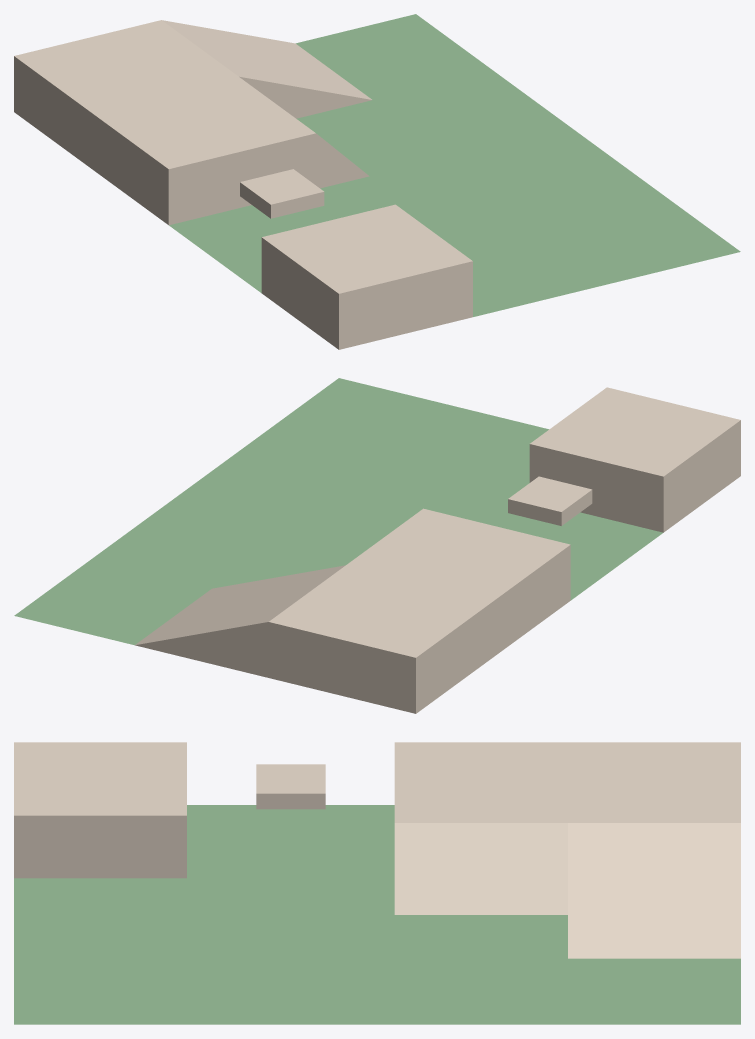
The model's file is character_controller_demo.glb.
3 renders of one model, top to bottom at view 1: azimuth 30°, elevation 25°; view 2: azimuth 150°, elevation 25°; view 3: azimuth 270°, elevation 25°, orthographic. The views are drawn at different scales.
Visible parts, largest first — view 1: Ground, Platform, Platform.001, Ramp.001, FloatingPlatform, Ramp; view 2: Ground, Platform, Platform.001, Ramp.001, FloatingPlatform; view 3: Ground, Platform, Platform.001, Ramp.001, Ramp, FloatingPlatform.
Boxes of the visible parts, x1,y1,x2,y2 form: Ground: (169, 14, 740, 316); Platform: (14, 20, 315, 225); Platform.001: (261, 204, 472, 349); Ramp.001: (162, 20, 371, 118); FloatingPlatform: (240, 169, 324, 218); Ramp: (316, 133, 369, 188); Ground: (14, 378, 663, 645); Platform: (268, 508, 570, 713); Platform.001: (529, 387, 740, 532); Ramp.001: (135, 565, 345, 677); FloatingPlatform: (508, 476, 592, 525); Ground: (14, 805, 740, 1024); Platform: (394, 742, 740, 822); Platform.001: (14, 742, 186, 878); Ramp.001: (568, 823, 740, 958); Ramp: (394, 823, 567, 914); FloatingPlatform: (256, 764, 325, 809).
Bounding box in the file's own units: 15 × 2 × 21.
